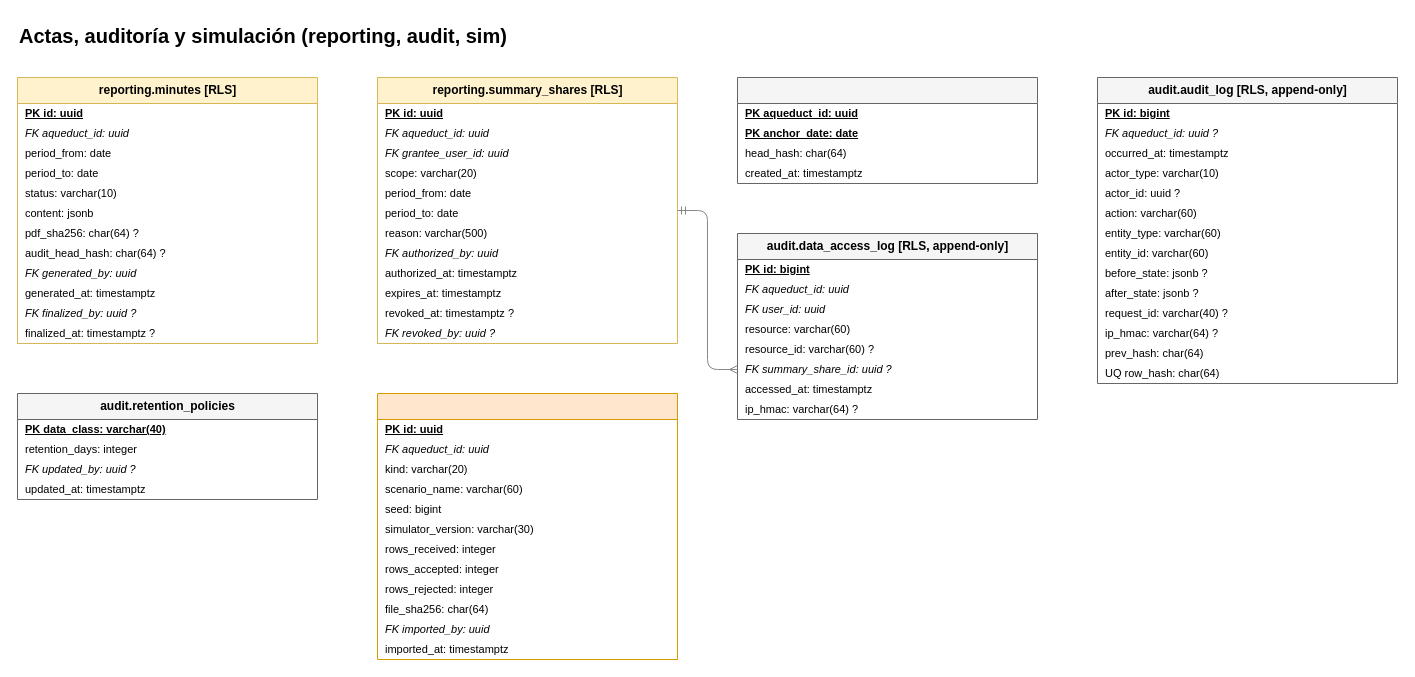
The diagram is 1415 pixels wide and 677 high, and some of its shapes have lost their labels. Each missing label, with the box of its shape:
audit.audit_anchors [append-only]: (736, 76, 1038, 184)
sim.import_batches [RLS, append-only]: (376, 392, 678, 660)
